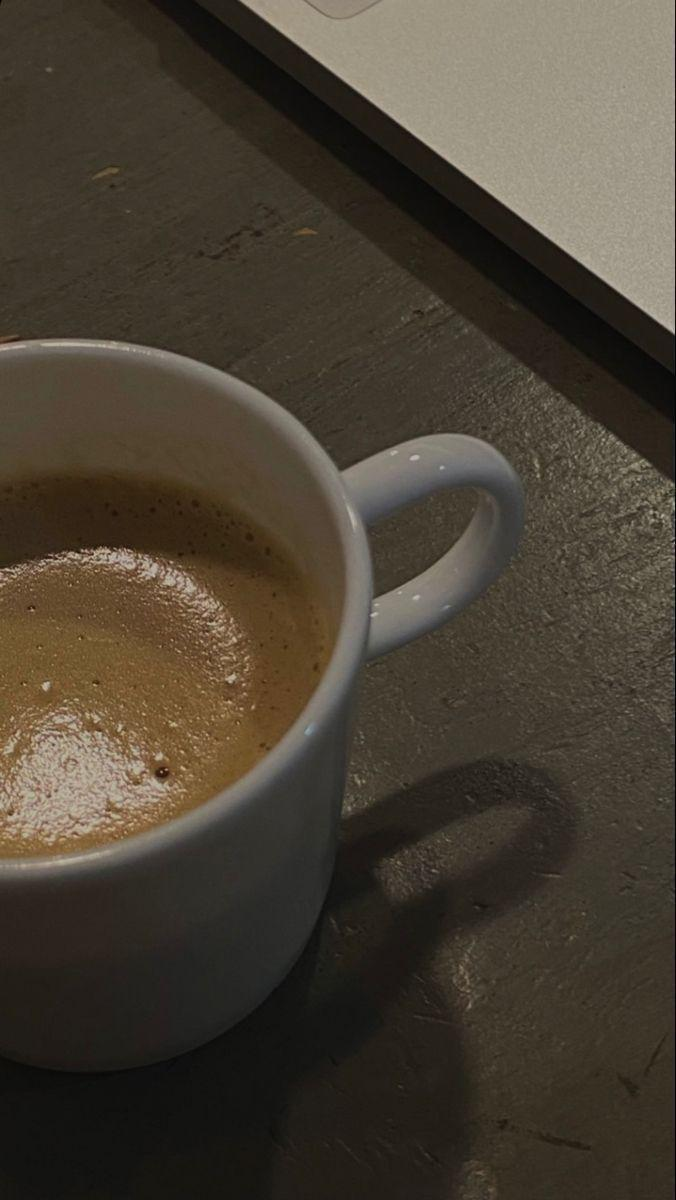cup-handle: (0, 332, 525, 1079)
